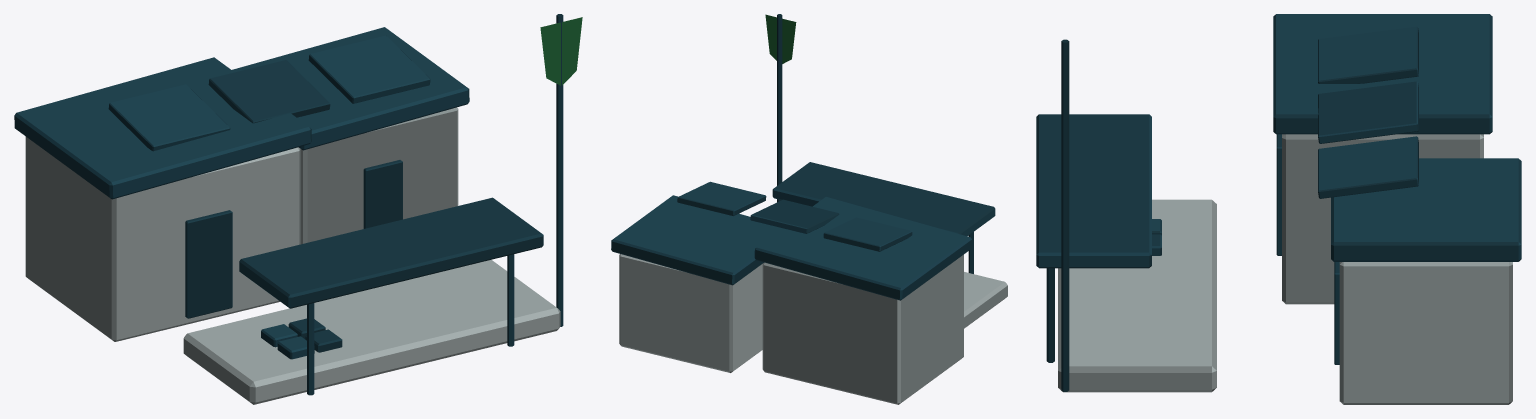
File: edificio-b_015-e5-W-XyfTj3.glb
3 views of the same model, side by side, from view 1: azimuth 30°, elevation 25°; view 2: azimuth 150°, elevation 25°; view 3: azimuth 270°, elevation 25° (orthographic). The views are drawn at different scales.
Visible parts, largest first — view 1: edificio_b_015_e5_envolvente, edificio_b_015_e5_detalles, edificio_b_015_e5_team_color; view 2: edificio_b_015_e5_envolvente, edificio_b_015_e5_detalles, edificio_b_015_e5_team_color; view 3: edificio_b_015_e5_detalles, edificio_b_015_e5_envolvente.
Boxes of the visible parts, x1,y1,x2,y2 form: edificio_b_015_e5_envolvente: (25,107,560,404); edificio_b_015_e5_detalles: (14,14,563,395); edificio_b_015_e5_team_color: (540,17,582,85); edificio_b_015_e5_envolvente: (619,254,1007,404); edificio_b_015_e5_detalles: (611,14,995,300); edificio_b_015_e5_team_color: (765,14,796,63); edificio_b_015_e5_detalles: (1036,14,1521,391); edificio_b_015_e5_envolvente: (1058,134,1512,404).
Size of the model in its own units: 34.73 by 27 by 33.6.
Materials: 3 (3 with a texture image).
